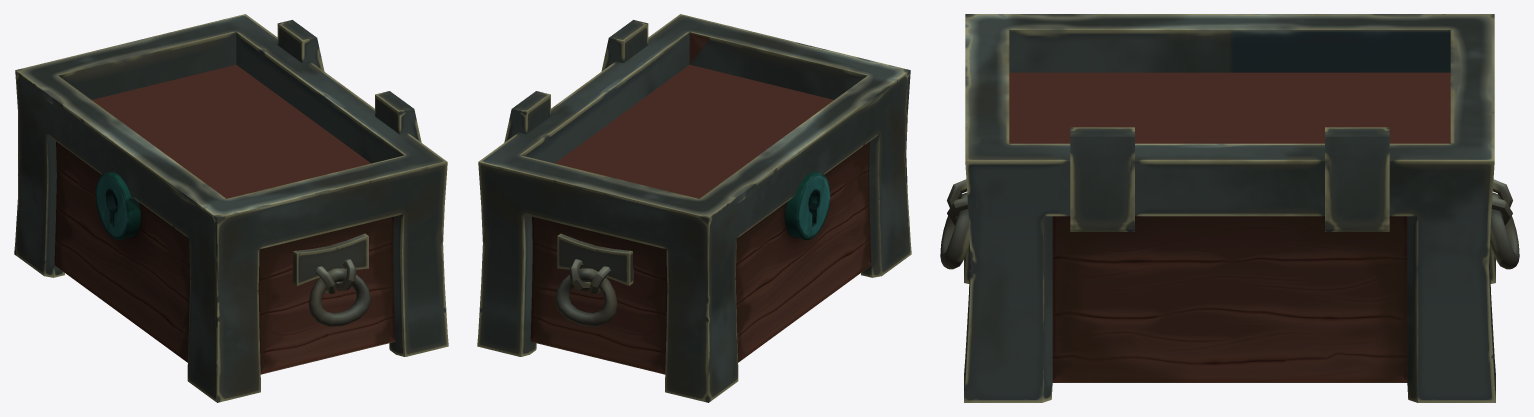
File: SM_Chest_Main.fbx
The picture shows the model from 3 angles, left to right: view 1: azimuth 30°, elevation 25°; view 2: azimuth 150°, elevation 25°; view 3: azimuth 270°, elevation 25°; orthographic projection. The views are drawn at different scales.
Visible parts, largest first — view 1: SM_Chest_Main_LOD0; view 2: SM_Chest_Main_LOD0; view 3: SM_Chest_Main_LOD0.
Part boxes in pixels (left/top/right/bottom): SM_Chest_Main_LOD0: left=14, top=14, right=448, bottom=402; SM_Chest_Main_LOD0: left=477, top=14, right=911, bottom=402; SM_Chest_Main_LOD0: left=940, top=14, right=1519, bottom=402.
Size of the model in its own units: 72.29 by 109 by 56.2.
Materials: 1 (1 with a texture image).
